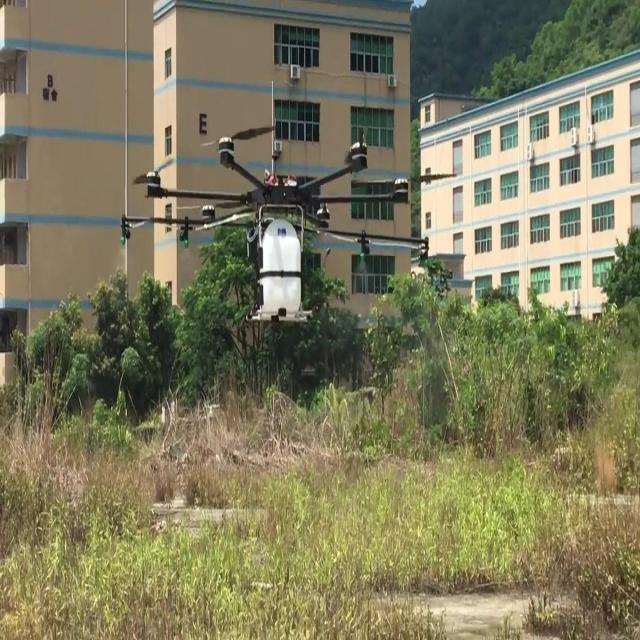drone: (118, 128, 430, 326)
